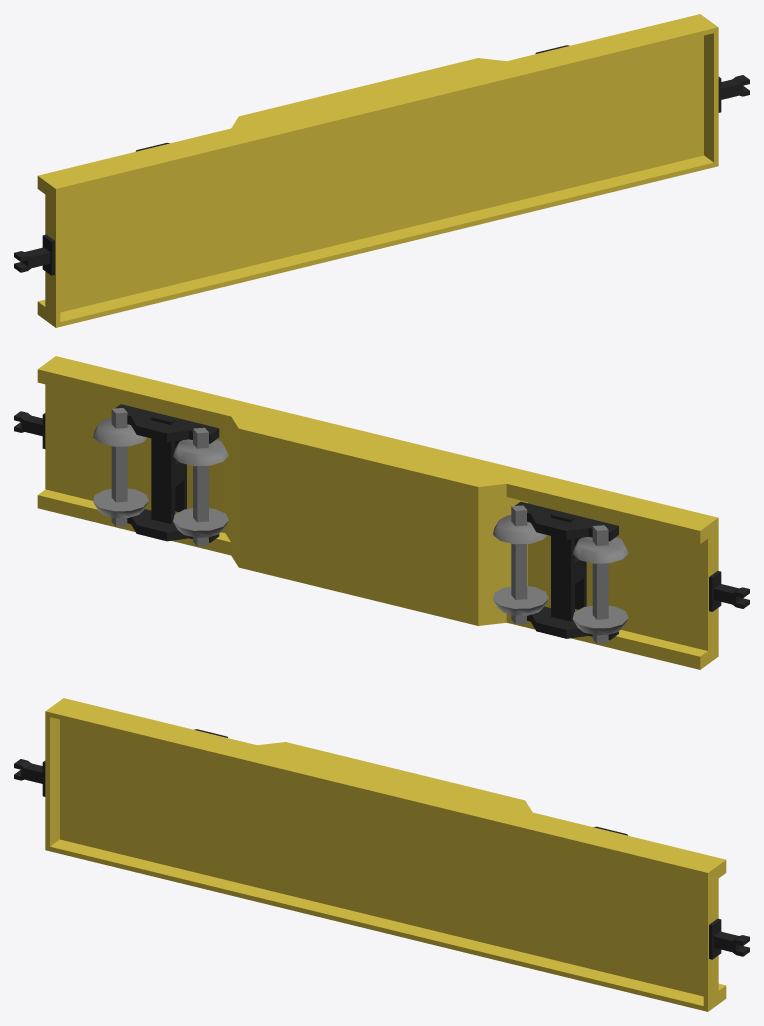
The model's file is stack_car_53ft_unloaded.dae.
The picture shows the model from 3 angles, top to bottom: view 1: azimuth 30°, elevation 25°; view 2: azimuth 150°, elevation 25°; view 3: azimuth 330°, elevation 25°; orthographic projection.
Visible parts, largest first — view 1: coords_ME_ID150_MA_Stack, coords_ME_ID158_MA_Stack, coords_ME_ID122_MA_Coupler, coords_ME_ID137_MA_Coupler; view 2: coords_ME_ID158_MA_Stack, coords_ME_ID44_MA_Frame, coords_ME_ID103_MA_Frame, coords_ME_ID52_MA_Frame, coords_ME_ID109_MA_Frame, coords_ME_ID84_MA_Wheels, coords_ME_ID19_MA_Wheels, coords_ME_ID78_MA_Wheels, coords_ME_ID25_MA_Wheels, coords_ME_ID66_MA_Wheels, coords_ME_ID5_MA_Wheels, coords_ME_ID90_MA_Wheels (+9 smaller); view 3: coords_ME_ID150_MA_Stack, coords_ME_ID158_MA_Stack, coords_ME_ID137_MA_Coupler, coords_ME_ID122_MA_Coupler.
Part boxes in pixels (<box>): coords_ME_ID150_MA_Stack: <box>60,33,713,321</box>; coords_ME_ID158_MA_Stack: <box>37,14,718,327</box>; coords_ME_ID122_MA_Coupler: <box>14,247,50,272</box>; coords_ME_ID137_MA_Coupler: <box>721,75,749,99</box>; coords_ME_ID158_MA_Stack: <box>37,356,718,669</box>; coords_ME_ID44_MA_Frame: <box>151,414,186,523</box>; coords_ME_ID103_MA_Frame: <box>551,512,586,621</box>; coords_ME_ID52_MA_Frame: <box>115,404,219,443</box>; coords_ME_ID109_MA_Frame: <box>515,501,618,541</box>; coords_ME_ID84_MA_Wheels: <box>592,525,608,643</box>; coords_ME_ID19_MA_Wheels: <box>111,408,127,526</box>; coords_ME_ID78_MA_Wheels: <box>511,505,527,623</box>; coords_ME_ID25_MA_Wheels: <box>193,427,208,546</box>; coords_ME_ID66_MA_Wheels: <box>493,586,548,615</box>; coords_ME_ID5_MA_Wheels: <box>93,488,148,518</box>; coords_ME_ID90_MA_Wheels: <box>572,606,628,635</box>; coords_ME_ID150_MA_Stack: <box>50,717,703,1005</box>; coords_ME_ID158_MA_Stack: <box>45,698,726,1011</box>; coords_ME_ID137_MA_Coupler: <box>713,931,749,956</box>; coords_ME_ID122_MA_Coupler: <box>14,759,42,783</box>.
Size of the model in its own units: 162 by 29.5 by 15.49.
